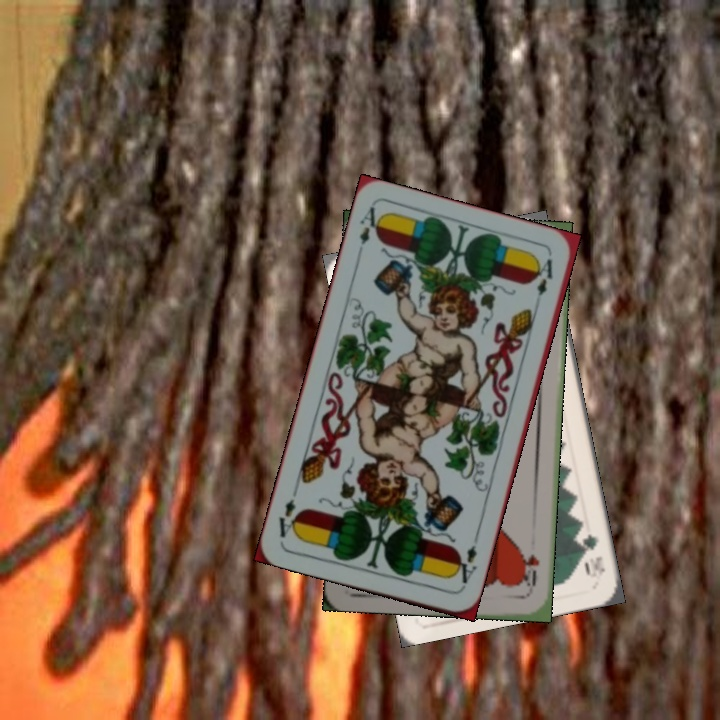EA: (352, 203, 385, 261), (449, 541, 480, 591)
G10: (577, 530, 608, 581)
HO: (517, 550, 542, 589)
